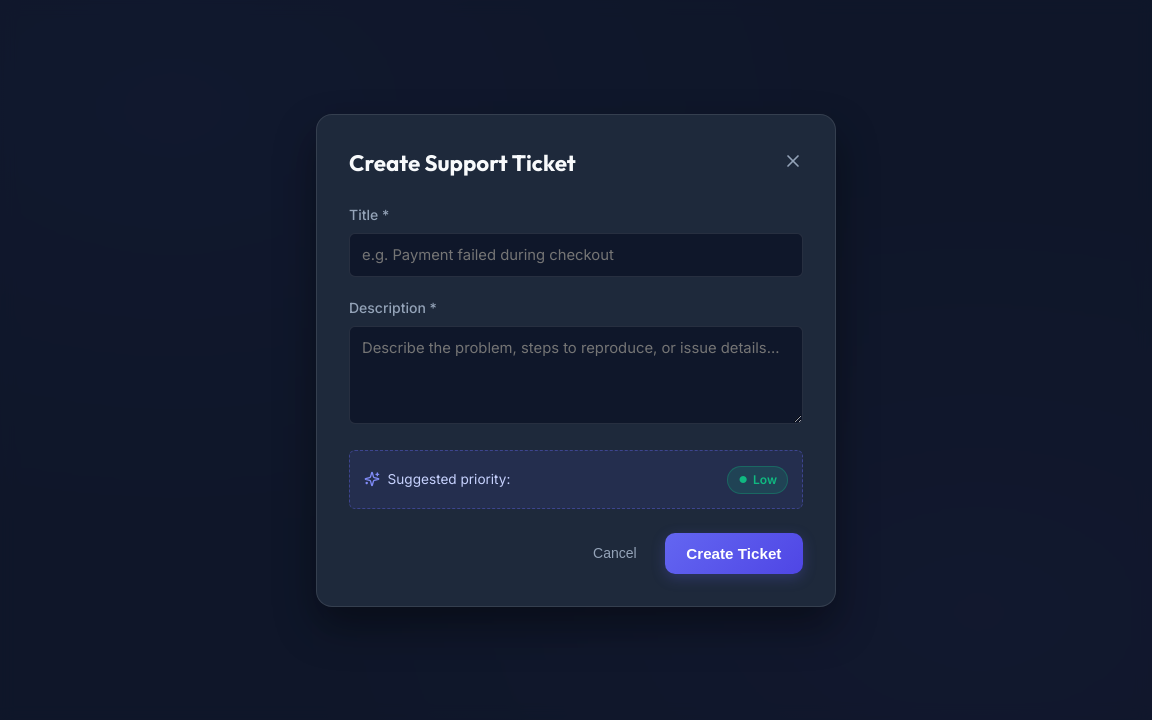
Test: TicketFormModal Component › should display validation error messages when submitting empty form
Click the button "Create Ticket".
click(734, 553)  # box [665,532,803,574]
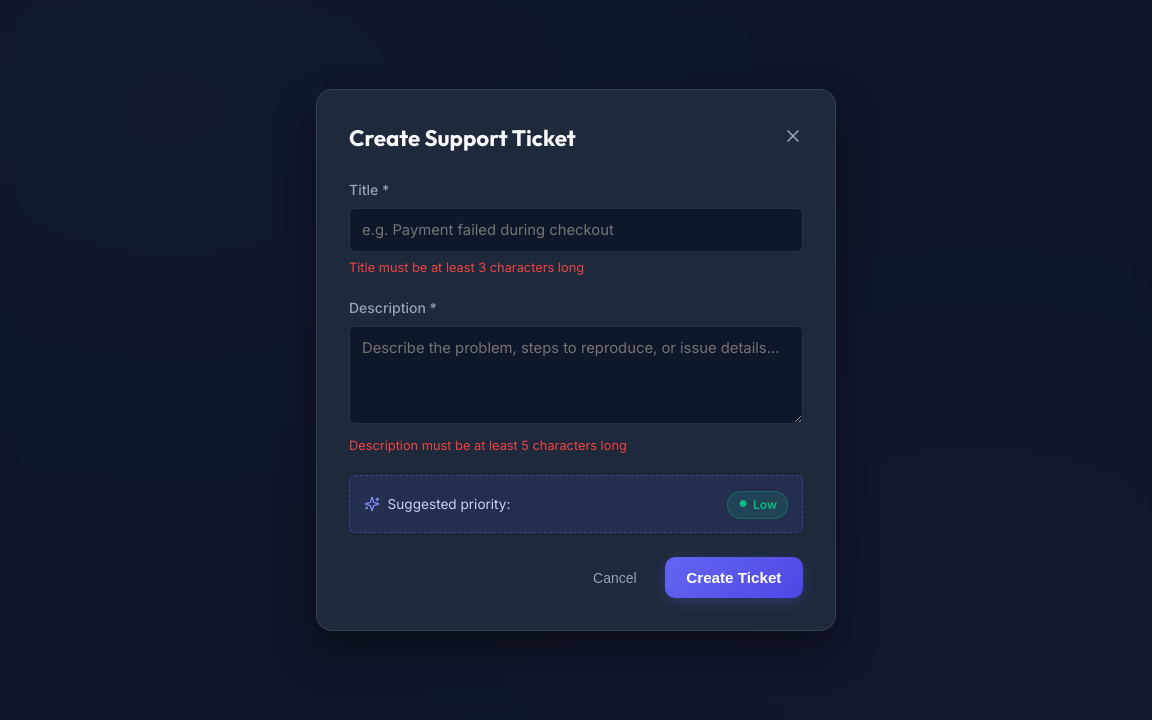
Check: the text "Title must be at least 3 characters long" is shown, box [349,260,584,275]
Check: the text "Description must be at least 5 characters long" is shown, box [349,438,627,453]
